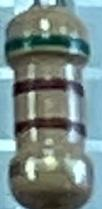Black: (14, 78, 83, 97)
Brown: (16, 117, 85, 134)
Green: (6, 35, 90, 56)
Side-Gold: (10, 157, 92, 178)
